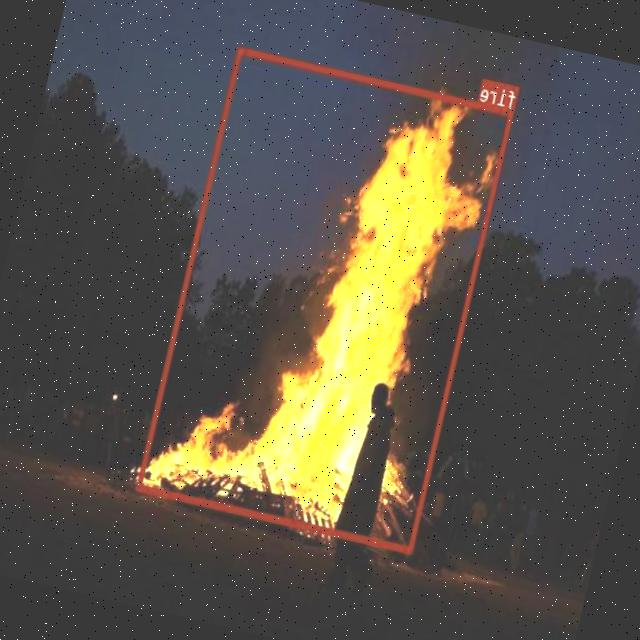fire: (137, 46, 515, 553)
